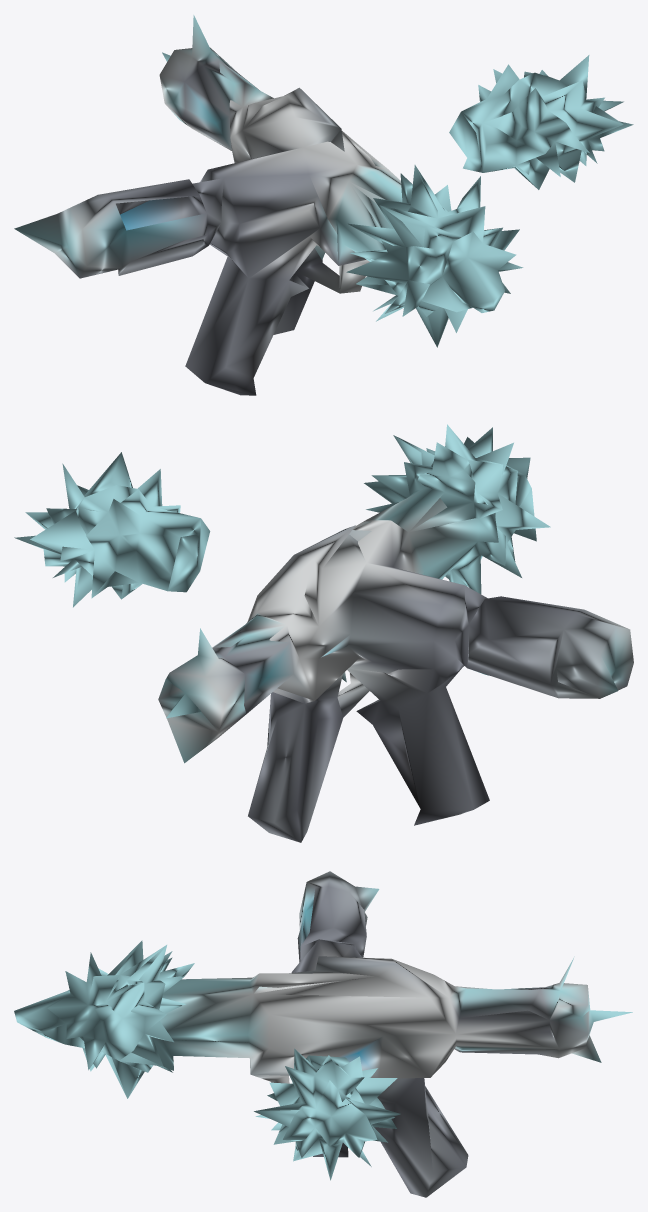
Rendered from gen3d-freeze-ray-lod1.glb.
The picture shows the model from 3 angles, top to bottom: view 1: azimuth 30°, elevation 25°; view 2: azimuth 150°, elevation 25°; view 3: azimuth 270°, elevation 25°; orthographic projection. The views are drawn at different scales.
Visible parts, largest first — view 1: part_0; view 2: part_0; view 3: part_0.
Boxes of the visible parts, left/top/right/bottom form: part_0: left=14, top=15, right=633, bottom=395; part_0: left=14, top=424, right=633, bottom=842; part_0: left=14, top=871, right=632, bottom=1197.
Size of the model in its own units: 2.18 by 0.9629 by 2.18.
